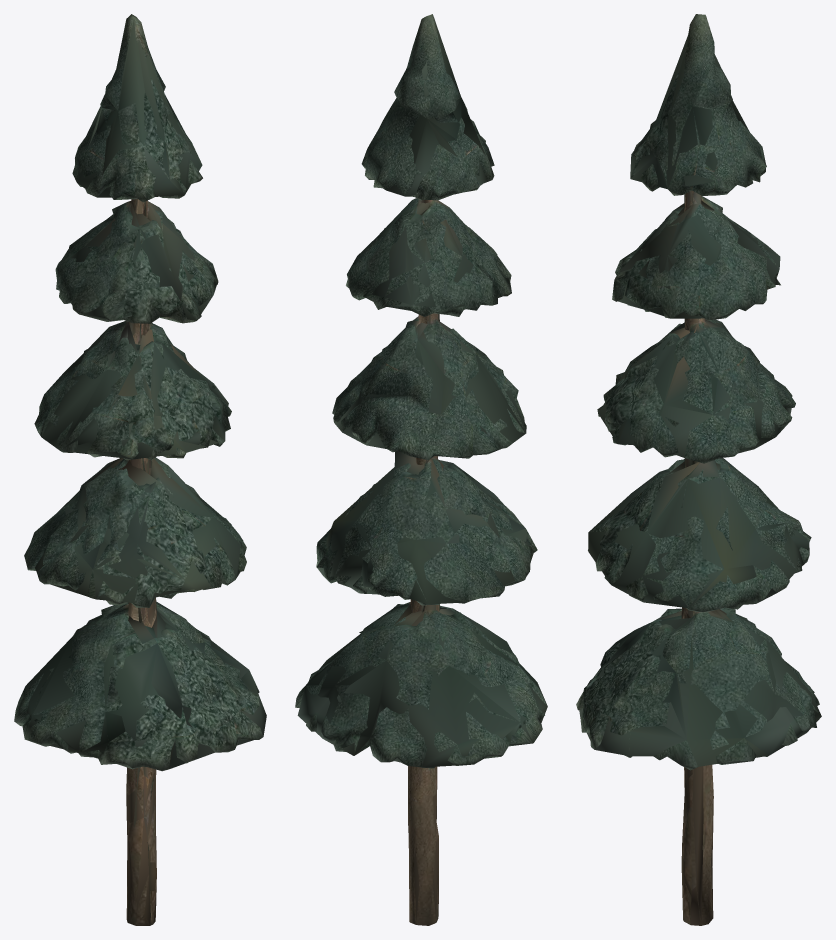
Rendered from abeto_joven.glb.
3 views of the same model, side by side, from view 1: azimuth 30°, elevation 25°; view 2: azimuth 150°, elevation 25°; view 3: azimuth 270°, elevation 25° (orthographic).
Visible parts, largest first — view 1: cerca, medio, lejos; view 2: cerca, medio, lejos; view 3: cerca, medio, lejos.
Boxes of the visible parts, x1,y1,x2,y2 form: cerca: (14, 14, 263, 925); medio: (27, 40, 264, 925); lejos: (20, 20, 266, 827); cerca: (295, 14, 547, 925); medio: (306, 63, 547, 924); lejos: (297, 16, 547, 922); cerca: (576, 14, 820, 925); medio: (579, 36, 821, 925); lejos: (579, 53, 821, 915).
Bounding box in the file's own units: 1.05 × 3.99 × 0.9854.
2 materials, 1 textured.
